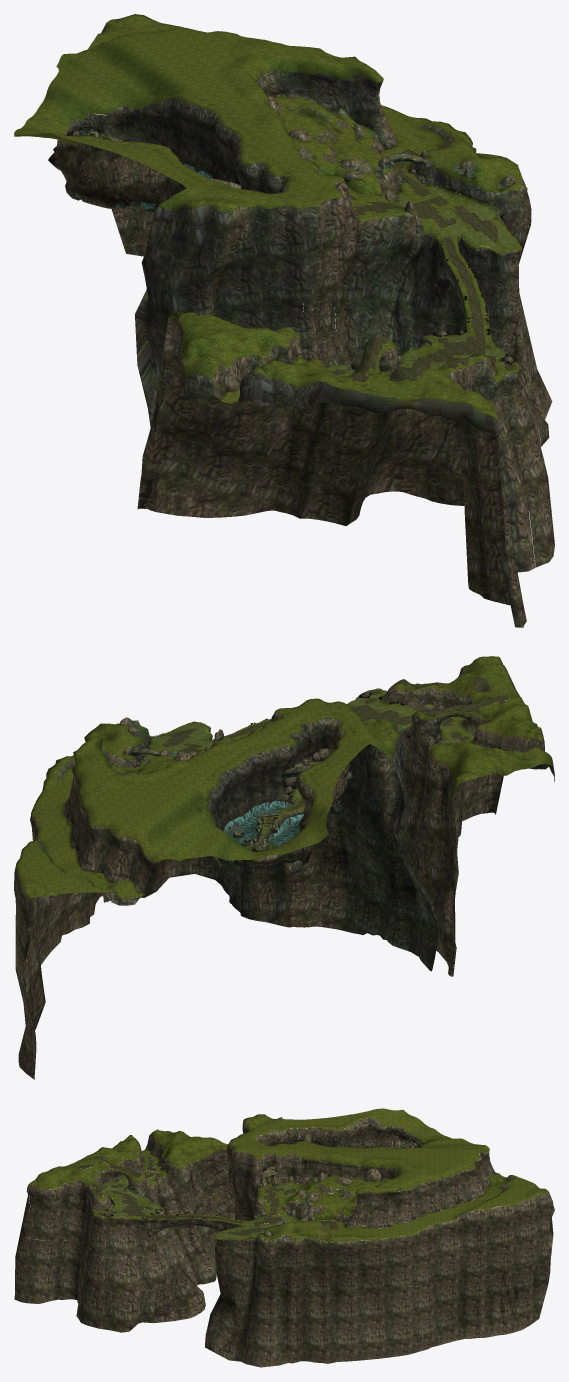
The model's file is NordNorthEast.glb.
The picture shows the model from 3 angles, top to bottom: view 1: azimuth 30°, elevation 25°; view 2: azimuth 150°, elevation 25°; view 3: azimuth 270°, elevation 25°; orthographic projection. The views are drawn at different scales.
Parts seen in each view (by area): view 1: 0030_polySurfaceShape434, 0031_polySurfaceShape434, 0033_polySurfaceShape434, 0010_map_layerShape1, 0034_polySurfaceShape434, 0038_polySurfaceShape678; view 2: 0033_polySurfaceShape434, 0030_polySurfaceShape434, 0031_polySurfaceShape434, 0010_map_layerShape1, 0004_water_addShape, 0034_polySurfaceShape434, 0028_iwa_objShape3, 0038_polySurfaceShape678; view 3: 0030_polySurfaceShape434, 0031_polySurfaceShape434, 0033_polySurfaceShape434, 0010_map_layerShape1, 0038_polySurfaceShape678, 0034_polySurfaceShape434.
Boxes of the visible parts, <box> form: 0030_polySurfaceShape434: <box>48,112,554,627</box>; 0031_polySurfaceShape434: <box>53,14,535,572</box>; 0033_polySurfaceShape434: <box>14,14,526,419</box>; 0010_map_layerShape1: <box>331,149,516,381</box>; 0034_polySurfaceShape434: <box>331,187,516,376</box>; 0038_polySurfaceShape678: <box>267,96,515,226</box>; 0033_polySurfaceShape434: <box>16,656,552,898</box>; 0030_polySurfaceShape434: <box>16,691,503,1079</box>; 0031_polySurfaceShape434: <box>14,660,554,998</box>; 0010_map_layerShape1: <box>117,676,508,826</box>; 0004_water_addShape: <box>216,796,340,866</box>; 0034_polySurfaceShape434: <box>146,694,474,837</box>; 0028_iwa_objShape3: <box>231,748,352,874</box>; 0038_polySurfaceShape678: <box>120,717,224,765</box>; 0030_polySurfaceShape434: <box>14,1122,550,1367</box>; 0031_polySurfaceShape434: <box>23,1114,554,1350</box>; 0033_polySurfaceShape434: <box>28,1108,548,1242</box>; 0010_map_layerShape1: <box>79,1156,339,1235</box>; 0038_polySurfaceShape678: <box>256,1166,381,1236</box>; 0034_polySurfaceShape434: <box>102,1166,291,1238</box>.
Size of the model in its own units: 6.41 by 3.92 by 11.88.
11 materials, 10 textured.
